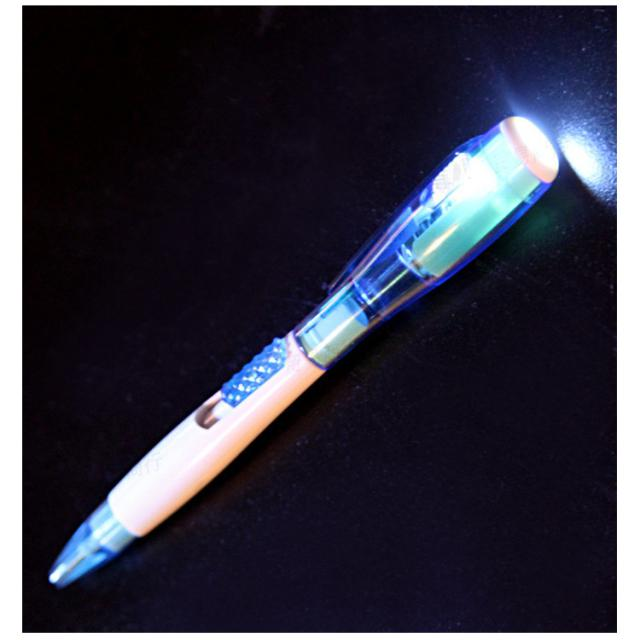pen: (48, 116, 560, 586)
